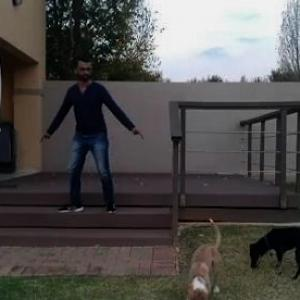land: (51, 55, 126, 223)
